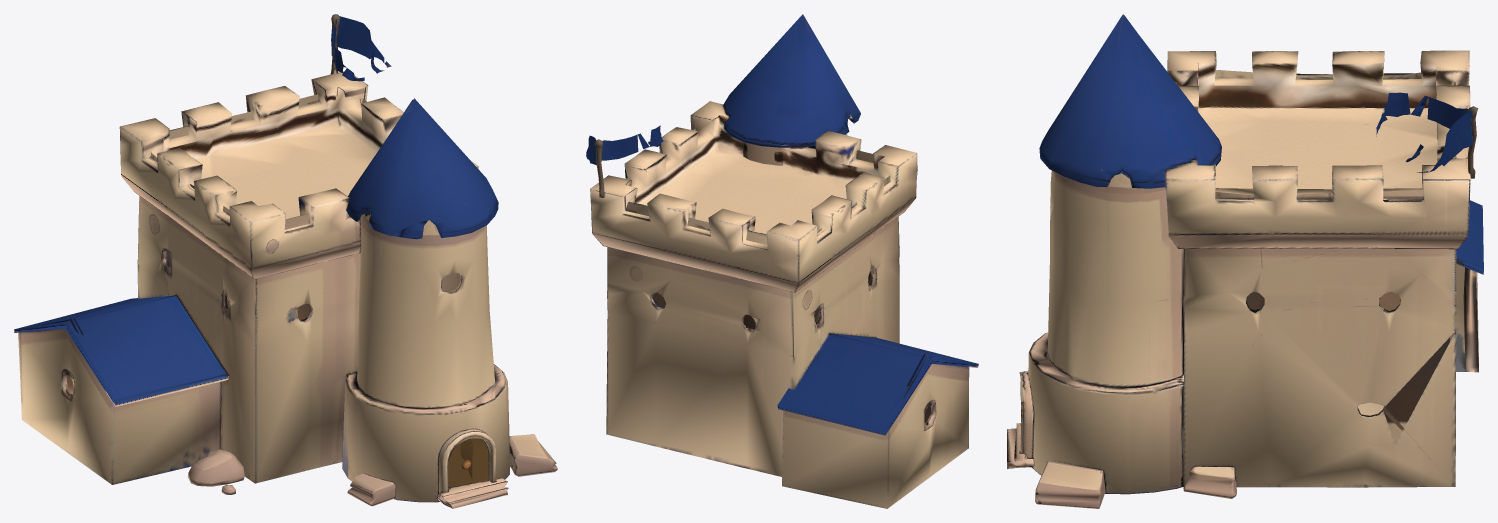
File: meshy-c6-d1.glb
3 views of the same model, side by side, from view 1: azimuth 30°, elevation 25°; view 2: azimuth 150°, elevation 25°; view 3: azimuth 270°, elevation 25° (orthographic). The views are drawn at different scales.
Bounding box in the file's own units: 1 × 1 × 1.
1 material, 1 textured.
